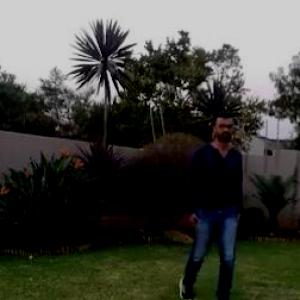follow: (192, 110, 243, 288)
